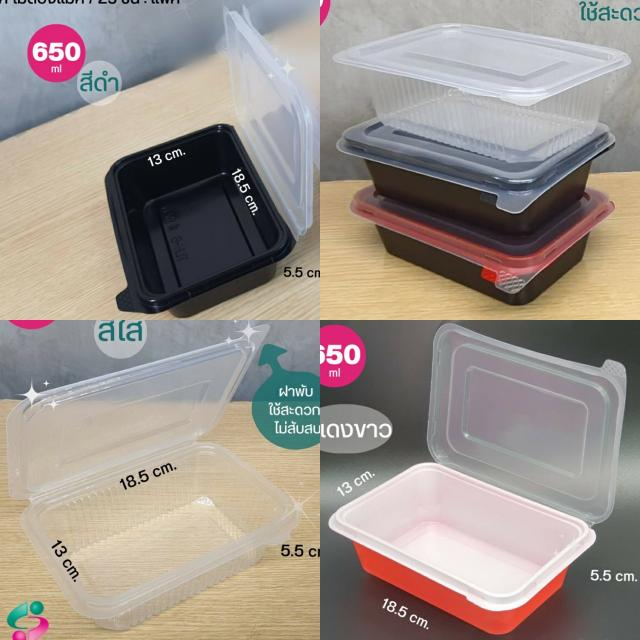Single-Use-Plastic: (105, 9, 319, 317), (22, 444, 299, 628), (6, 325, 269, 499), (329, 462, 596, 633), (334, 24, 631, 162), (428, 324, 626, 524), (350, 185, 614, 305), (338, 119, 615, 233)
